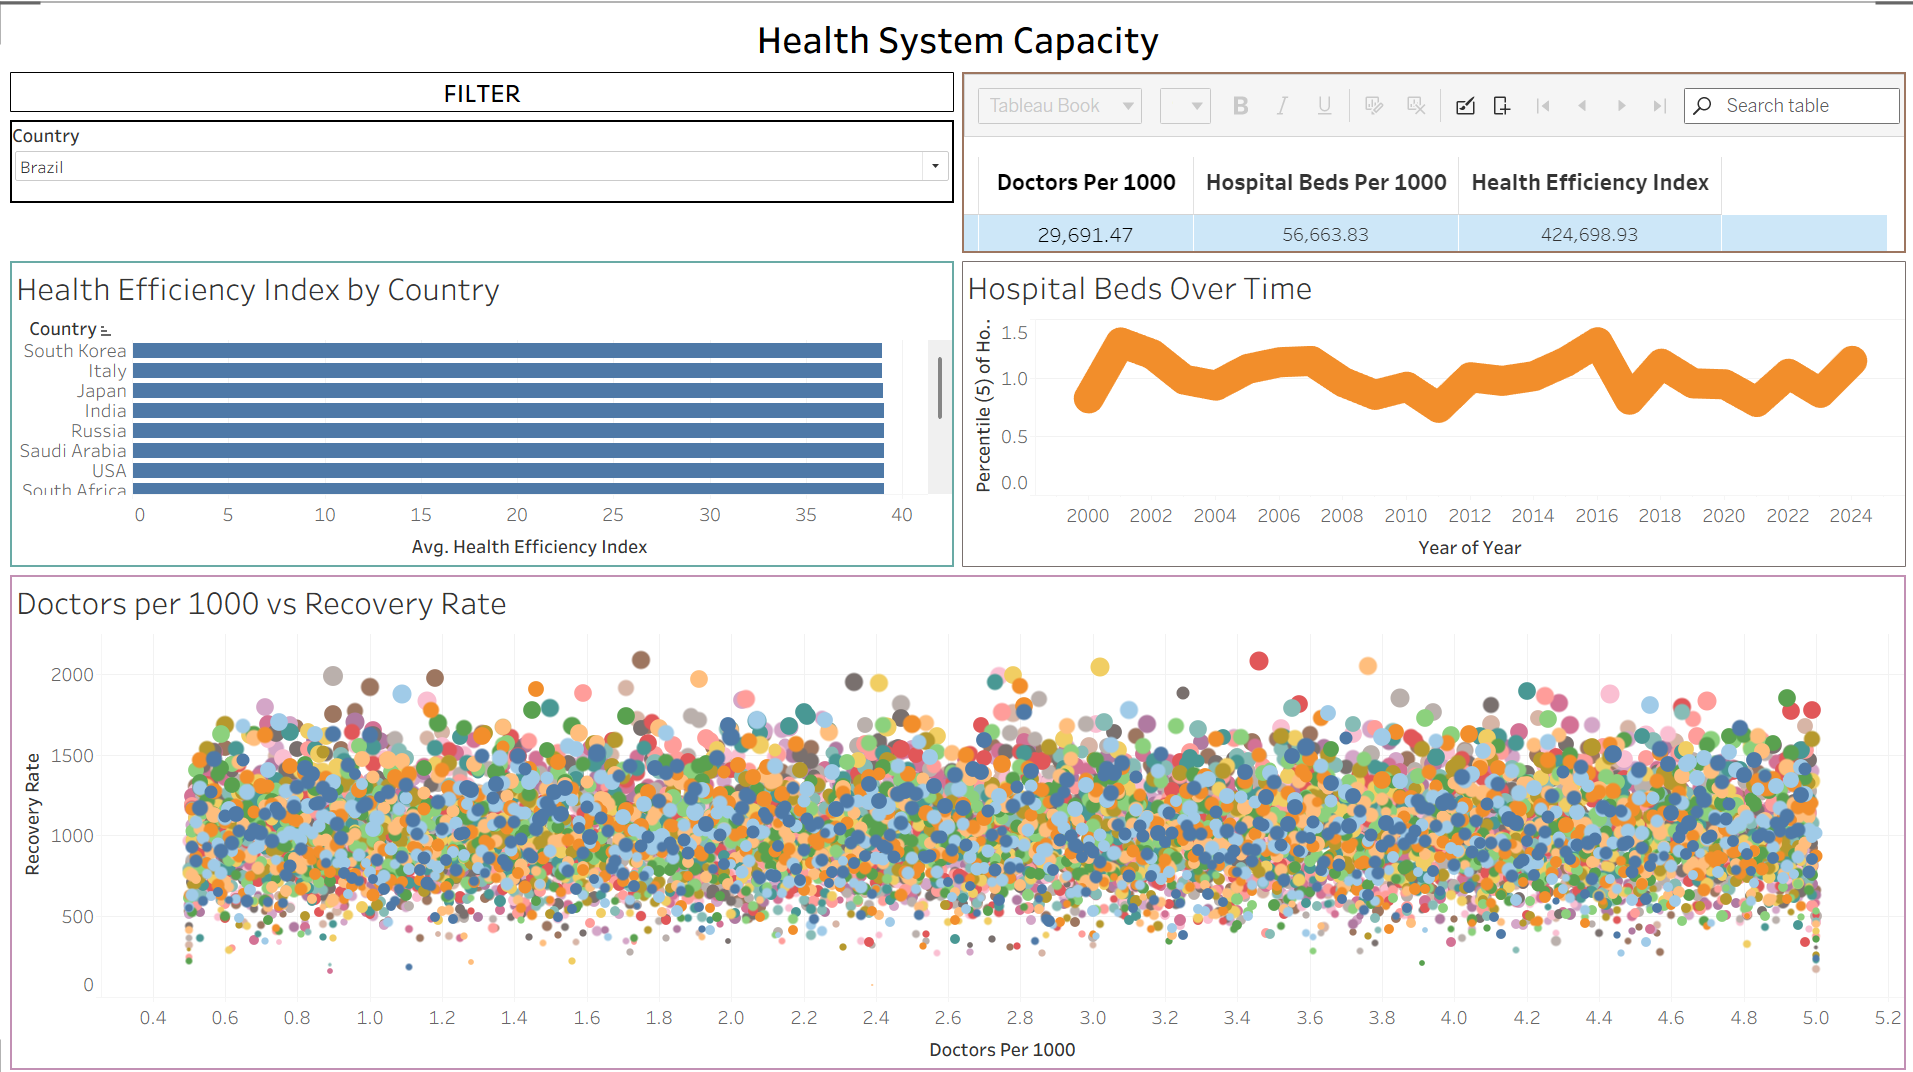

The dashboard page shown, as its layout file describes it:
{"tool":"tableau","page":{"name":"Heallth system capacity","canvas":[650,860],"ordinal":3},"visuals":[{"type":"title","box":[8,8,634,58]},{"type":"text","box":[8,66,317,37]},{"type":"worksheet","title":"Summary of Capacity Metrics","box":[325,66,317,148.1]},{"type":"filter","title":"Hospital Beds Over Time","param":"[federated.0mcjdn40acfvmb1d8chxj1wd6kbu].[none:country:nk]","box":[8,103,317,37]},{"type":"legend","title":"Hospital Beds Over Time","param":"[federated.0mcjdn40acfvmb1d8chxj1wd6kbu].[none:country:nk]","box":[8,140,317,37]},{"type":"legend","title":"Doctors per 1000 vs Recovery Rate","param":"[federated.0mcjdn40acfvmb1d8chxj1wd6kbu].[sum:per_capita_income_usd:qk]","box":[8,177,317,37]},{"type":"worksheet","title":"Health Efficiency Index by Country","mark":"Automatic","rows":["country"],"cols":["Calculation_2214082235453636611"],"box":[8,214.1,317,244.9]},{"type":"worksheet","title":"Hospital Beds Over Time","mark":"Line","rows":["hospital_beds_per_1000"],"cols":["year"],"box":[325,214.1,317,244.9]},{"type":"worksheet","title":"Doctors per 1000 vs Recovery Rate","mark":"Circle","rows":["recovery_rate"],"cols":["doctors_per_1000"],"box":[8,459,634,393]}]}

Visuals, with their boxes on the page's 650x860 design canvas (x1, y1, x2, y2). These are canvas units, not pixel positions in the 1913x1072 screenshot, which may show the page scaled, cropped or inside an application window:
title: BBox(8, 8, 642, 66)
text: BBox(8, 66, 325, 103)
"Summary of Capacity Metrics" worksheet: BBox(325, 66, 642, 214)
"Hospital Beds Over Time" filter: BBox(8, 103, 325, 140)
"Hospital Beds Over Time" legend: BBox(8, 140, 325, 177)
"Doctors per 1000 vs Recovery Rate" legend: BBox(8, 177, 325, 214)
"Health Efficiency Index by Country" worksheet: BBox(8, 214, 325, 459)
"Hospital Beds Over Time" worksheet (Line marks): BBox(325, 214, 642, 459)
"Doctors per 1000 vs Recovery Rate" worksheet (Circle marks): BBox(8, 459, 642, 852)
